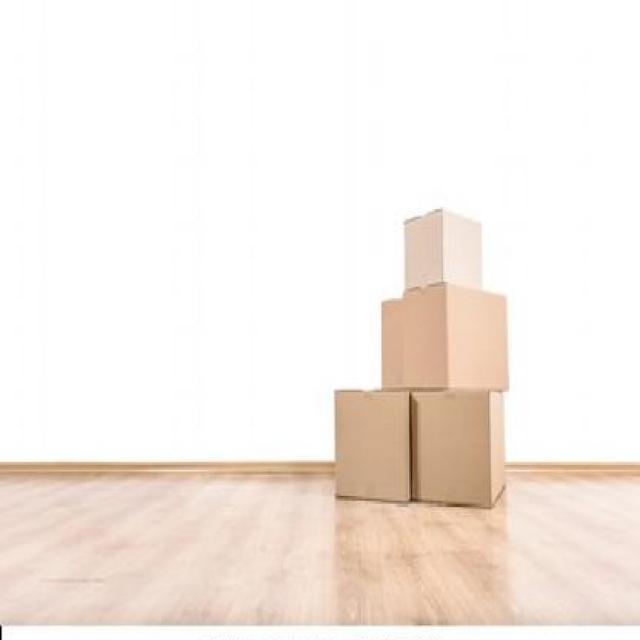box: (364, 276, 528, 393), (408, 386, 517, 509), (390, 187, 488, 307), (332, 382, 412, 516)
